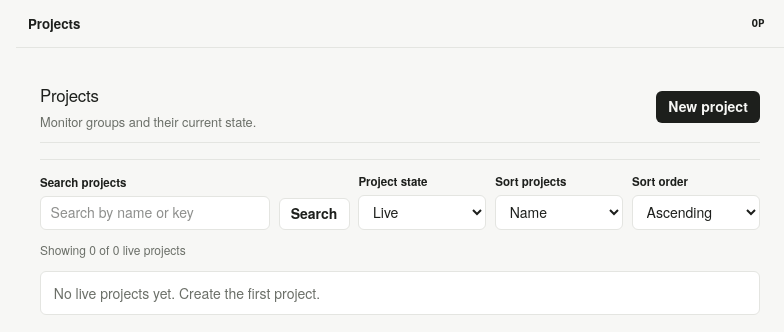
the access and project application › keeps the authenticated session and exposes the error when sign-out fails
Expected: the heading "Projects" is shown, top-left (40, 83), bottom-right (98, 107)
Click the button with aria-label "Account: operator@example.test". click: coordinates (758, 24)
box: top-left (744, 10), bottom-right (772, 38)
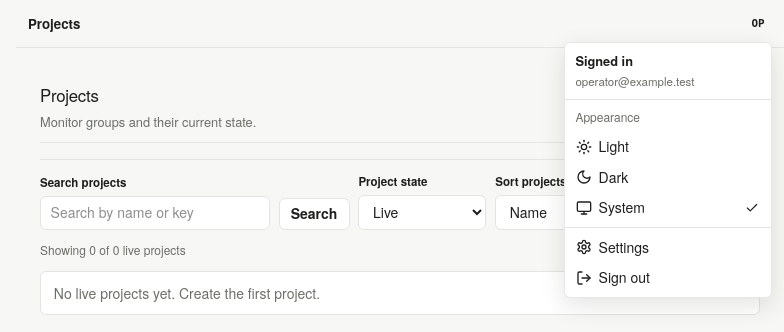
Click the menu item "Sign out". click: coordinates (613, 277)
box: top-left (576, 267), bottom-right (650, 287)
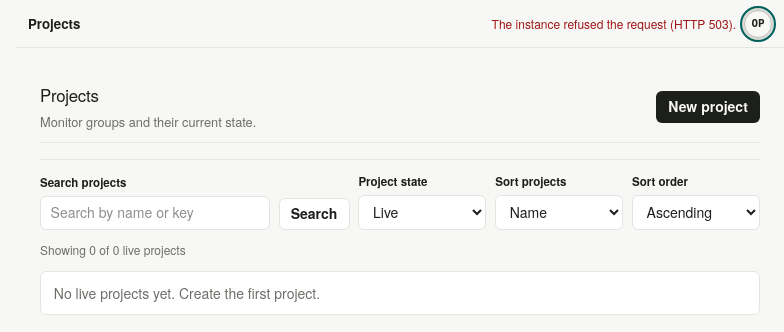
Expected: the heading "Projects" is shown, top-left (40, 83), bottom-right (98, 107)
Result: the message "The instance refused the request (HTTP 503)." is shown at top-left (492, 14), bottom-right (736, 32)
